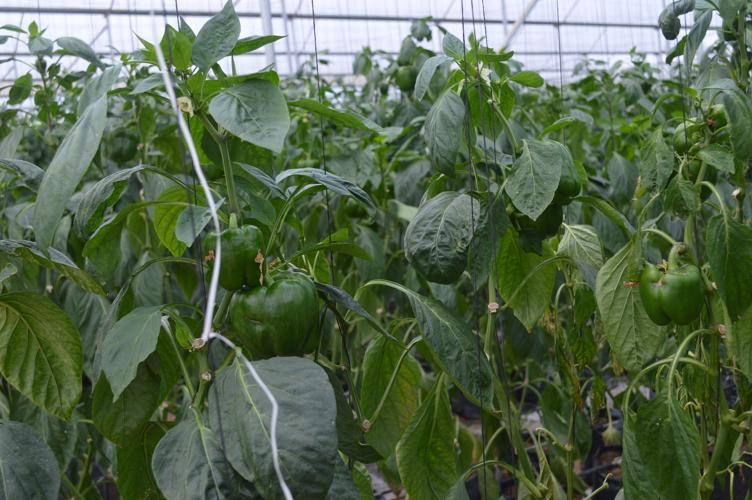BellPepper: (228, 274, 323, 357), (635, 266, 706, 329), (199, 224, 266, 289), (535, 141, 579, 204), (513, 201, 563, 241)
